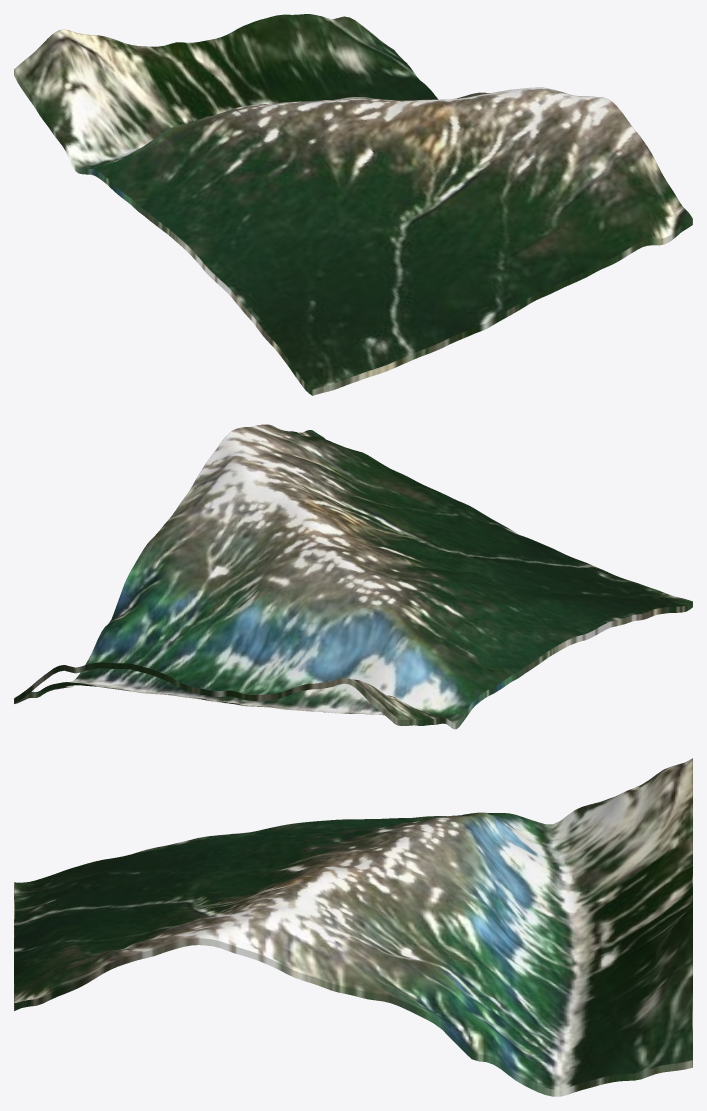
3 renders of one model, top to bottom at view 1: azimuth 30°, elevation 25°; view 2: azimuth 150°, elevation 25°; view 3: azimuth 270°, elevation 25°, orthographic. The views are drawn at different scales.
Visible parts, largest first — view 1: tile; view 2: tile; view 3: tile.
Part boxes in pixels (box(x1,y1,x2,y2)): tile: box(14, 14, 692, 395); tile: box(14, 424, 692, 729); tile: box(14, 758, 692, 1096).
Bounding box in the file's own units: 2025 × 726 × 2752.
Materials: 1 (1 with a texture image).
